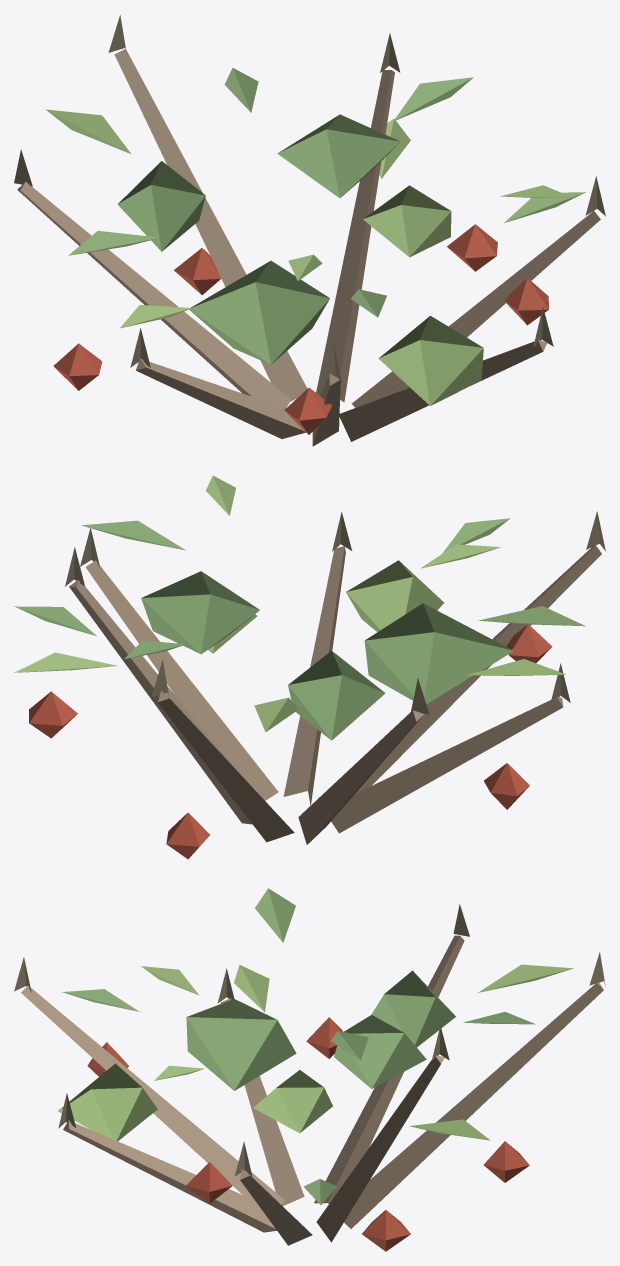
File: guan.xuangouzi@fruiting__spring.glb
3 renders of one model, top to bottom at view 1: azimuth 30°, elevation 25°; view 2: azimuth 150°, elevation 25°; view 3: azimuth 270°, elevation 25°, orthographic. The views are drawn at different scales.
Parts seen in each view (by area): view 1: guan.xuangouzi@fruiting__spring; view 2: guan.xuangouzi@fruiting__spring; view 3: guan.xuangouzi@fruiting__spring.
Part boxes in pixels (x1=…): guan.xuangouzi@fruiting__spring: x1=14, y1=15, x2=605, y2=446; guan.xuangouzi@fruiting__spring: x1=14, y1=475, x2=605, y2=859; guan.xuangouzi@fruiting__spring: x1=14, y1=888, x2=605, y2=1251.
Size of the model in its own units: 2.76 by 1.46 by 2.92.
